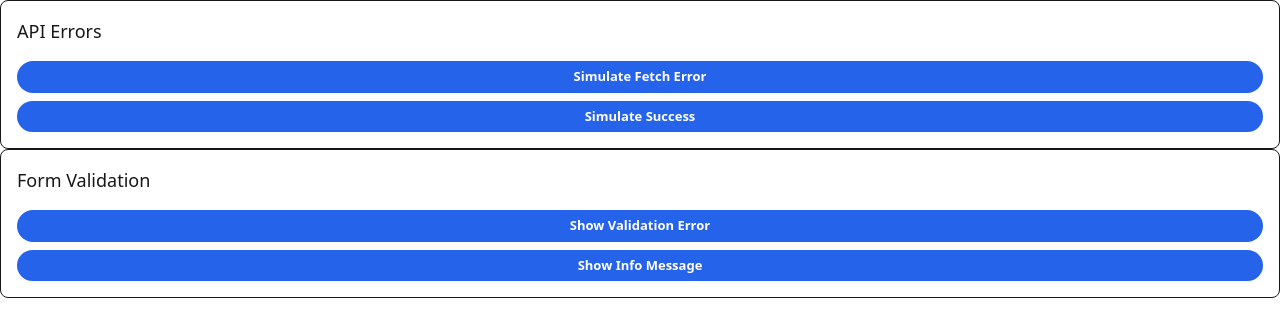
Test: Toast Demo Component › shows success toast when clicking success button
What coordinates should you click on to do the following:
click the button "Simulate Success"
I would click on:
 (640, 116)
Its box is [17,100,1263,132].
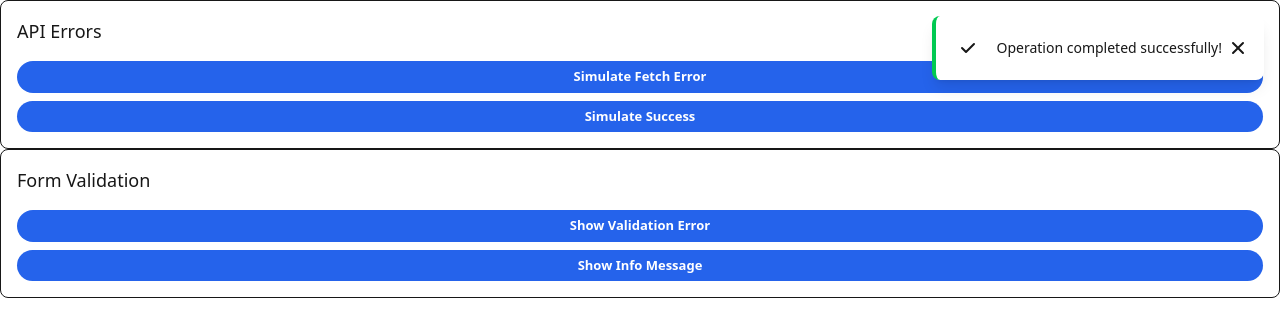
Check: the text "Operation completed successfully!" is shown, box [996,38,1222,58]
